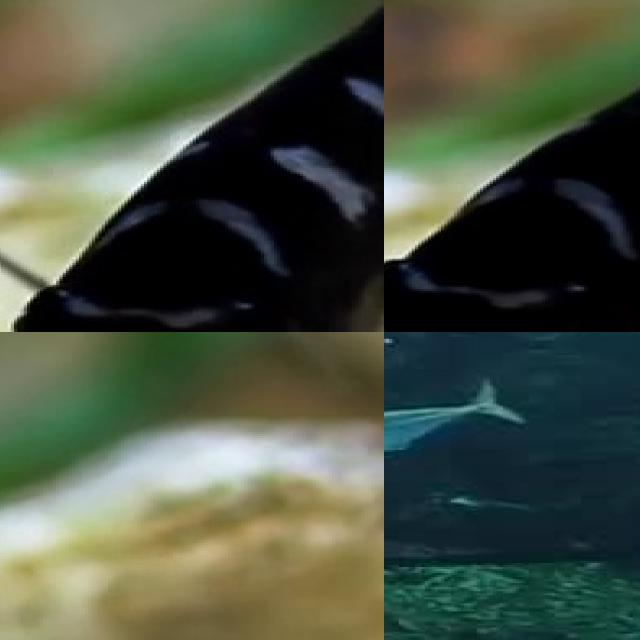fish: (0, 0, 384, 332), (384, 0, 577, 123)
